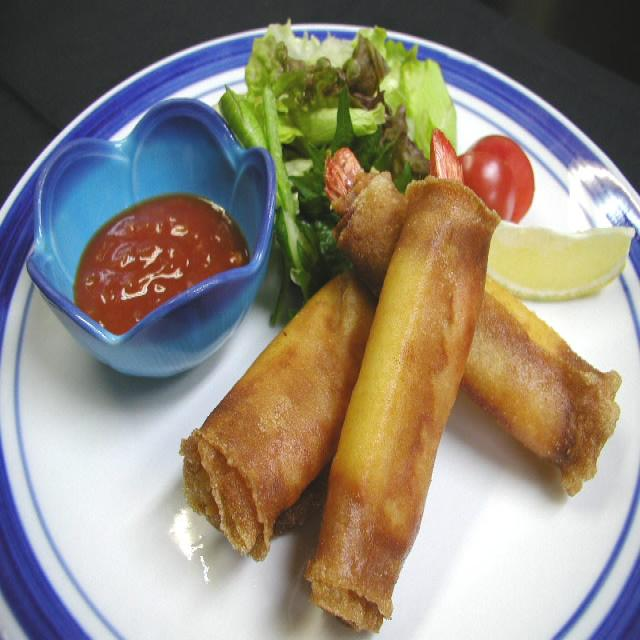鸡蛋料理: (186, 157, 625, 615)
